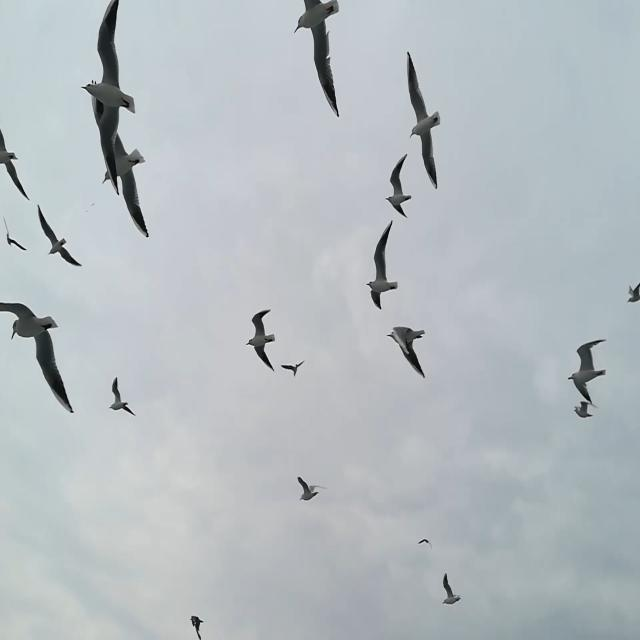bird: (81, 1, 136, 198), (89, 78, 151, 240), (0, 300, 75, 417), (293, 1, 340, 118), (406, 49, 442, 191), (366, 220, 398, 312), (38, 203, 82, 268), (566, 338, 608, 405), (0, 129, 31, 200), (386, 325, 426, 379), (384, 154, 414, 219), (245, 308, 276, 370), (109, 374, 135, 418), (3, 215, 27, 251), (297, 476, 328, 501), (441, 573, 463, 603), (572, 398, 599, 420), (626, 278, 640, 306), (190, 614, 205, 640), (282, 362, 306, 377), (418, 537, 434, 549), (91, 202, 95, 207), (85, 210, 88, 212)
